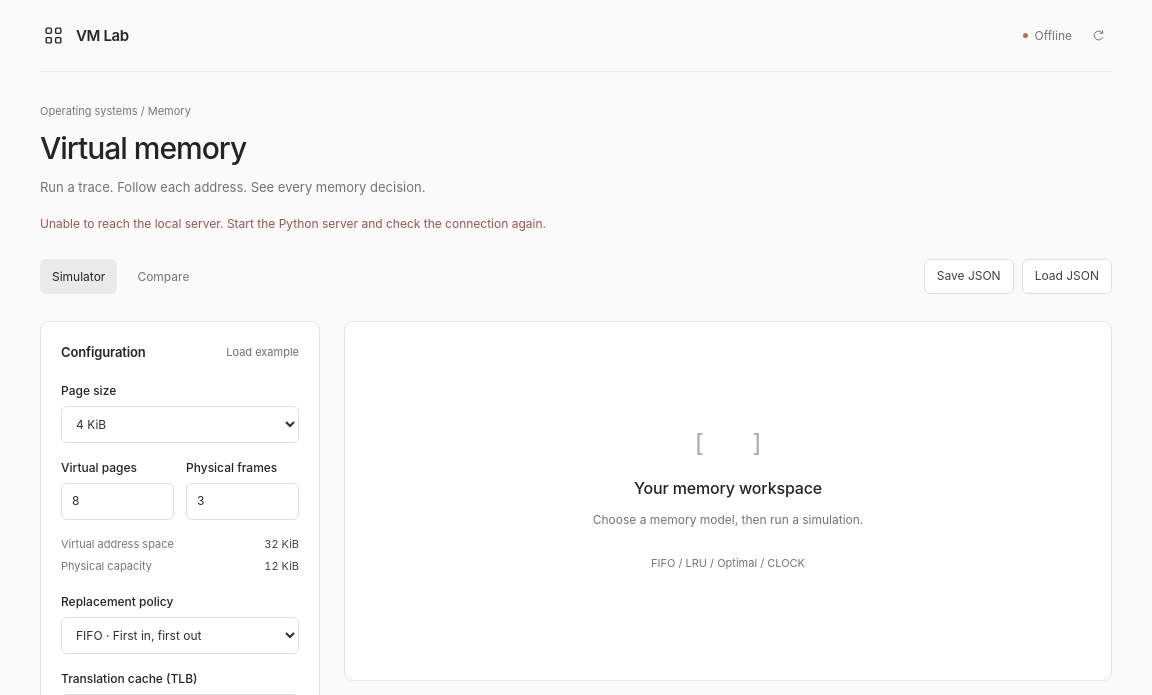
Test: foundation connection › reports a failed connection and recovers on retry
Check: the text "Offline" is shown, box x1=1022 y1=28 x2=1072 y2=43
Click the button named "check connection" at point(1098, 36), box x1=1084 y1=22 x2=1112 y2=50
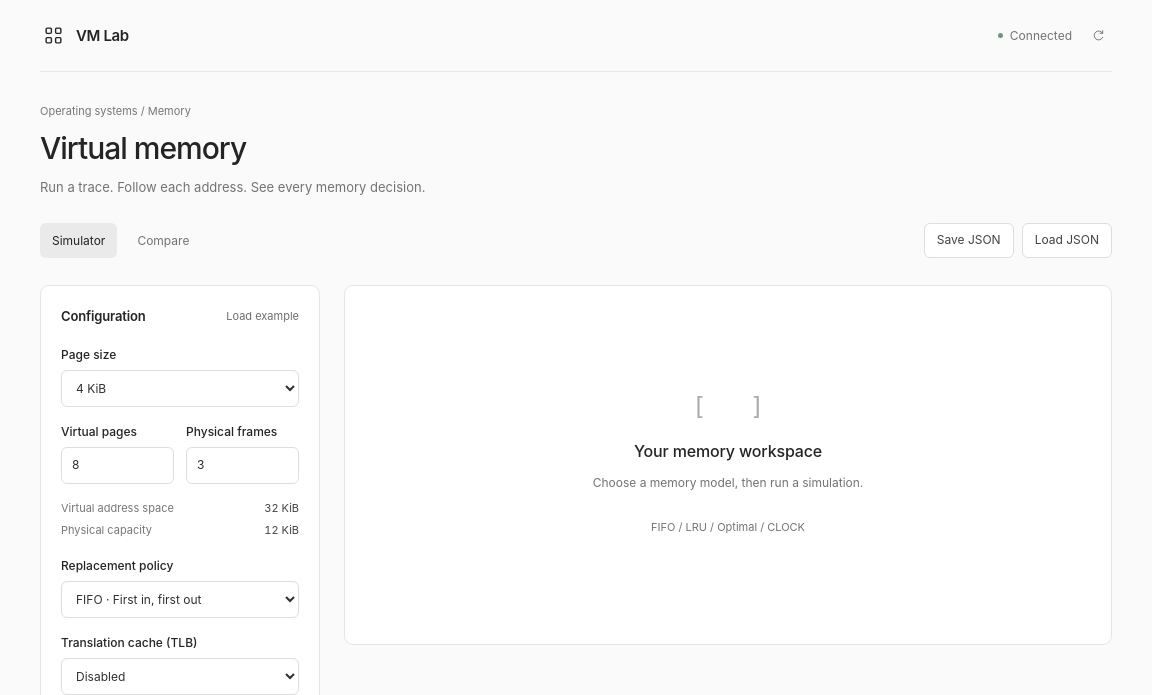
Check: the text "Connected" is shown, box x1=998 y1=28 x2=1072 y2=43
